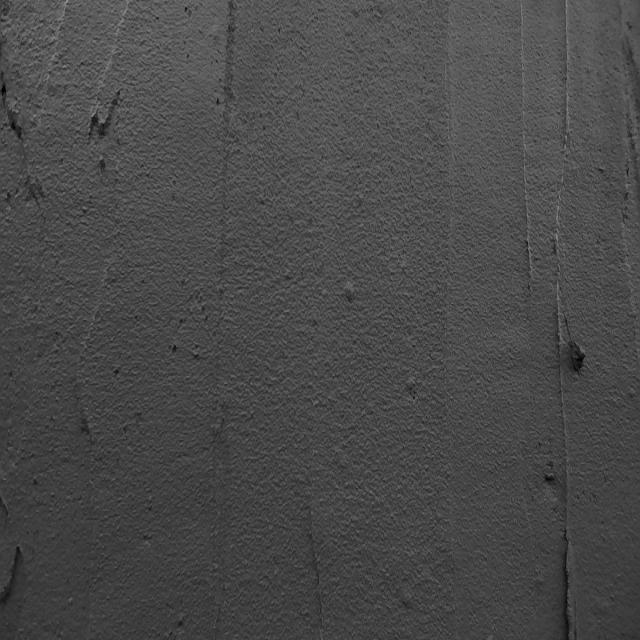trowels marks: (551, 3, 581, 640)
